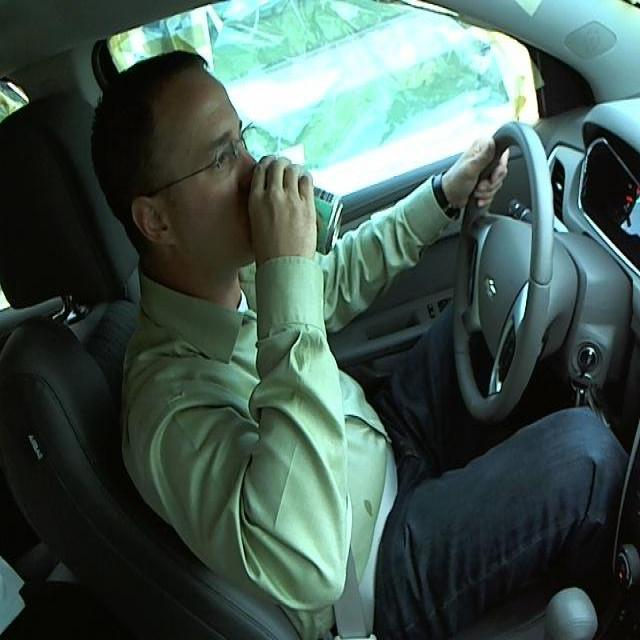drinking: (253, 164, 346, 255)
